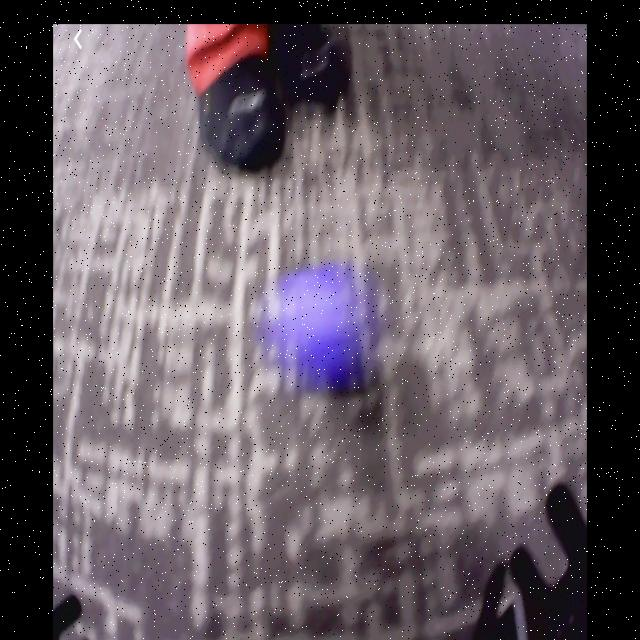ball: (298, 278, 361, 384)
